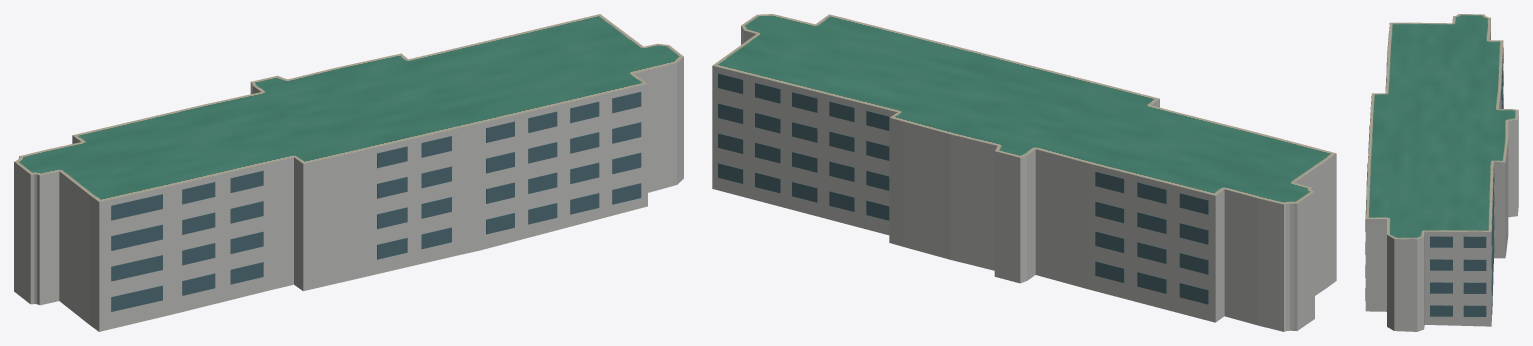
Rendered from fragments.glb.
3 views of the same model, side by side, from view 1: azimuth 30°, elevation 25°; view 2: azimuth 150°, elevation 25°; view 3: azimuth 270°, elevation 25° (orthographic). The views are drawn at different scales.
Parts seen in each view (by area): view 1: SM_dorm-c_Fragment_017, SM_dorm-c_Fragment_043, SM_dorm-c_Fragment_015, SM_dorm-c_Fragment_047, SM_dorm-c_Fragment_031, SM_dorm-c_Fragment_003, SM_dorm-c_Fragment_011, SM_dorm-c_Fragment_007, SM_dorm-c_Fragment_033, SM_dorm-c_Fragment_048, SM_dorm-c_Fragment_040, SM_dorm-c_Fragment_012 (+27 smaller); view 2: SM_dorm-c_Fragment_036, SM_dorm-c_Fragment_019, SM_dorm-c_Fragment_014, SM_dorm-c_Fragment_041, SM_dorm-c_Fragment_034, SM_dorm-c_Fragment_004, SM_dorm-c_Fragment_039, SM_dorm-c_Fragment_005, SM_dorm-c_Fragment_049, SM_dorm-c_Fragment_055, SM_dorm-c_Fragment_006, SM_dorm-c_Fragment_010 (+29 smaller); view 3: SM_dorm-c_Fragment_042, SM_dorm-c_Fragment_029, SM_dorm-c_Fragment_000, SM_dorm-c_Fragment_006, SM_dorm-c_Fragment_040, SM_dorm-c_Fragment_021, SM_dorm-c_Fragment_032, SM_dorm-c_Fragment_012, SM_dorm-c_Fragment_013, SM_dorm-c_Fragment_049, SM_dorm-c_Fragment_053, SM_dorm-c_Fragment_016 (+23 smaller).
Boxes of the visible parts, bbox=[...] form: SM_dorm-c_Fragment_017: bbox=[59, 228, 162, 331]; SM_dorm-c_Fragment_043: bbox=[139, 156, 230, 266]; SM_dorm-c_Fragment_015: bbox=[252, 210, 362, 294]; SM_dorm-c_Fragment_047: bbox=[59, 165, 162, 252]; SM_dorm-c_Fragment_031: bbox=[276, 130, 364, 218]; SM_dorm-c_Fragment_003: bbox=[189, 141, 283, 230]; SM_dorm-c_Fragment_011: bbox=[458, 102, 539, 201]; SM_dorm-c_Fragment_007: bbox=[557, 146, 645, 229]; SM_dorm-c_Fragment_033: bbox=[522, 87, 602, 176]; SM_dorm-c_Fragment_048: bbox=[478, 162, 558, 242]; SM_dorm-c_Fragment_040: bbox=[576, 62, 647, 153]; SM_dorm-c_Fragment_012: bbox=[315, 107, 417, 193]; SM_dorm-c_Fragment_036: bbox=[829, 104, 922, 203]; SM_dorm-c_Fragment_019: bbox=[1228, 247, 1314, 331]; SM_dorm-c_Fragment_014: bbox=[712, 68, 796, 165]; SM_dorm-c_Fragment_041: bbox=[1137, 163, 1231, 258]; SM_dorm-c_Fragment_034: bbox=[750, 61, 854, 142]; SM_dorm-c_Fragment_004: bbox=[783, 138, 862, 228]; SM_dorm-c_Fragment_039: bbox=[921, 139, 994, 229]; SM_dorm-c_Fragment_005: bbox=[1137, 253, 1236, 322]; SM_dorm-c_Fragment_049: bbox=[975, 122, 1065, 196]; SM_dorm-c_Fragment_055: bbox=[1202, 171, 1281, 271]; SM_dorm-c_Fragment_006: bbox=[912, 89, 1030, 142]; SM_dorm-c_Fragment_010: bbox=[1031, 186, 1106, 281]; SM_dorm-c_Fragment_042: bbox=[1413, 209, 1491, 280]; SM_dorm-c_Fragment_029: bbox=[1414, 281, 1488, 331]; SM_dorm-c_Fragment_000: bbox=[1387, 259, 1448, 324]; SM_dorm-c_Fragment_006: bbox=[1424, 122, 1508, 160]; SM_dorm-c_Fragment_040: bbox=[1365, 195, 1409, 270]; SM_dorm-c_Fragment_021: bbox=[1412, 150, 1493, 178]; SM_dorm-c_Fragment_032: bbox=[1387, 218, 1429, 269]; SM_dorm-c_Fragment_012: bbox=[1369, 109, 1436, 140]; SM_dorm-c_Fragment_013: bbox=[1431, 60, 1501, 107]; SM_dorm-c_Fragment_049: bbox=[1450, 101, 1518, 149]; SM_dorm-c_Fragment_053: bbox=[1416, 82, 1482, 112]; SM_dorm-c_Fragment_016: bbox=[1386, 184, 1451, 218].
Bounding box in the file's own units: 2.2 × 0.4467 × 0.6322.
Materials: 5 (1 with a texture image).
